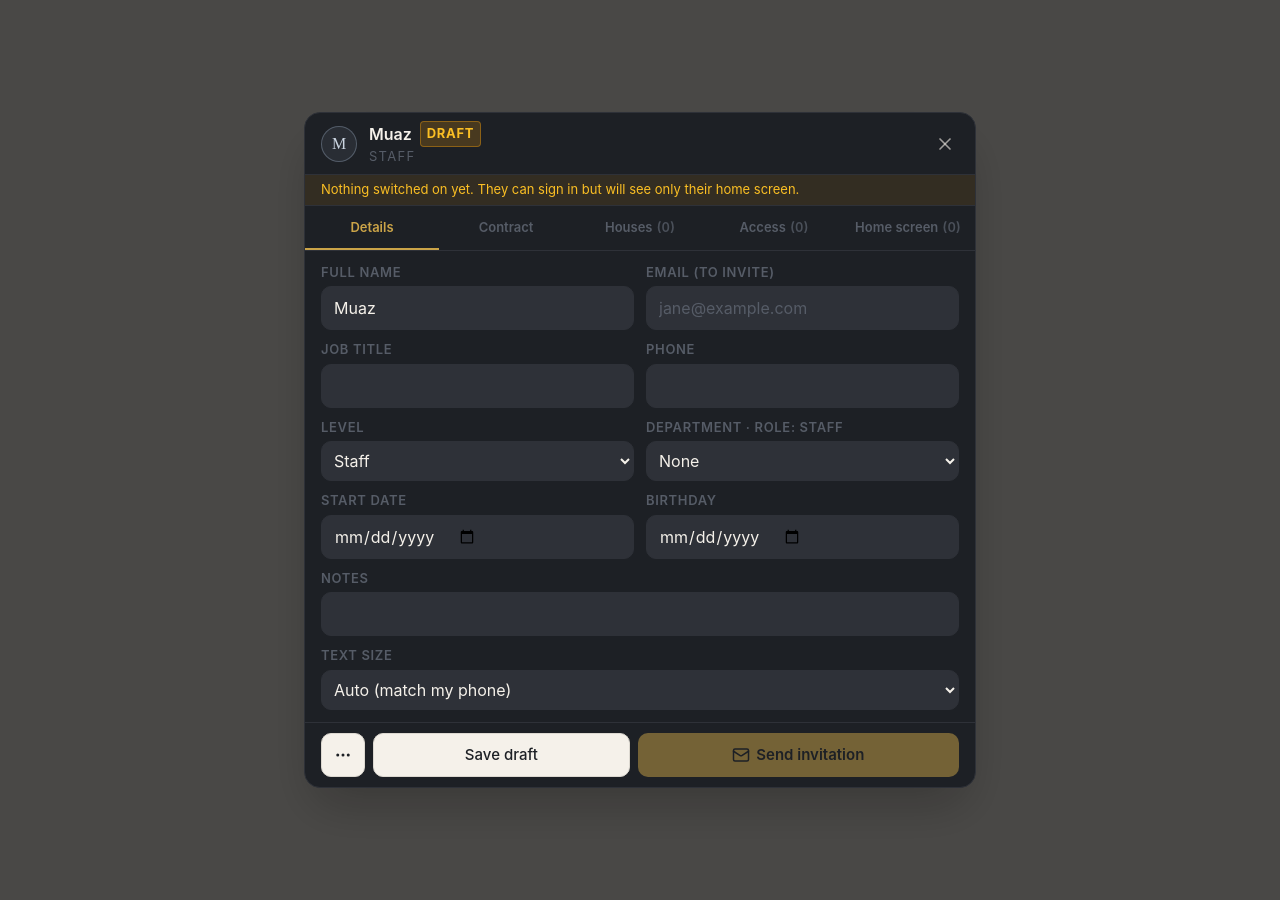
clock row in Schedule › shows for staff and counts in the group
Step 1. Click the tab "Access(0)" → (774, 228), box [707, 206, 841, 250]
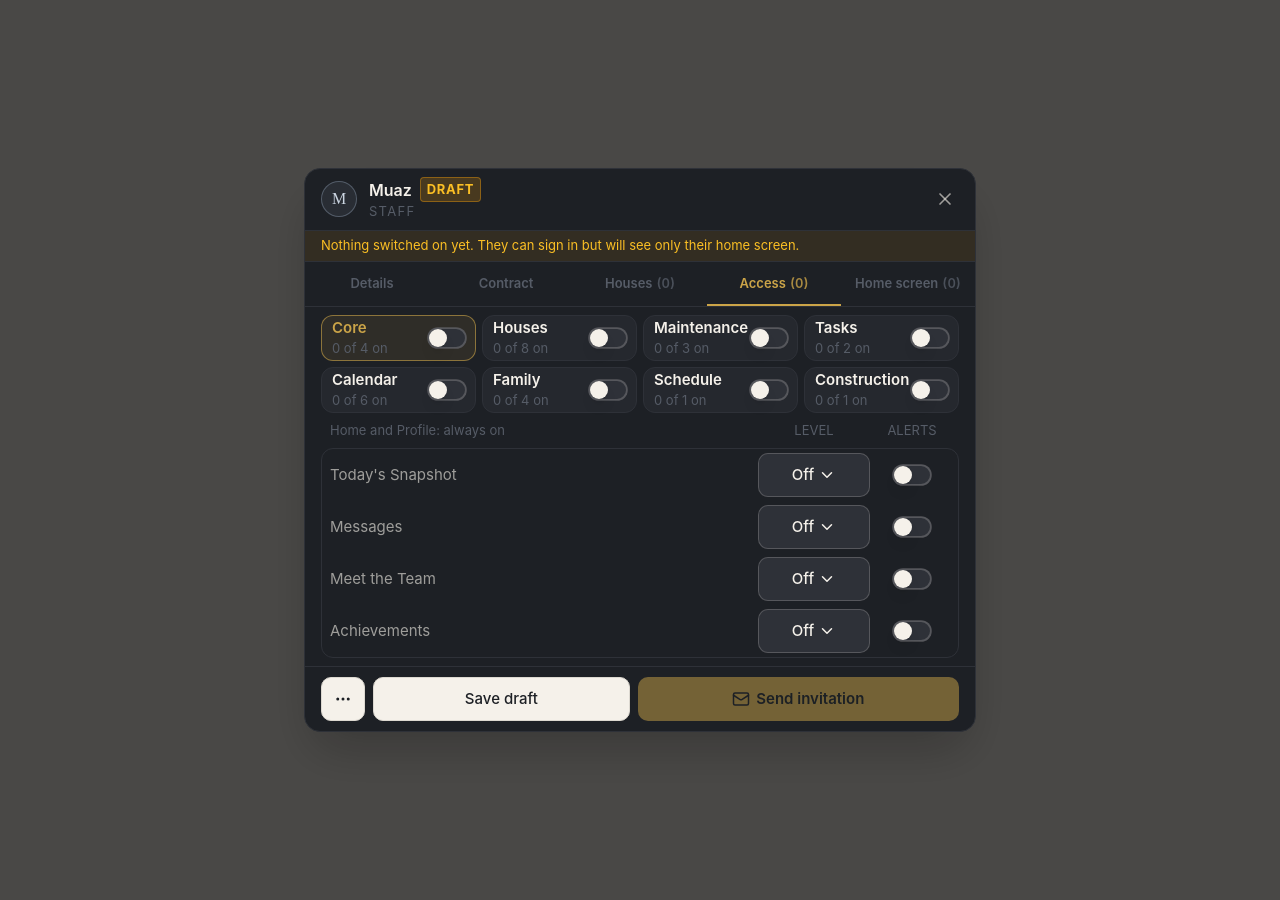
Step 2. Click the button "Schedule 0 of 1 on" → (694, 390), box [644, 368, 743, 412]
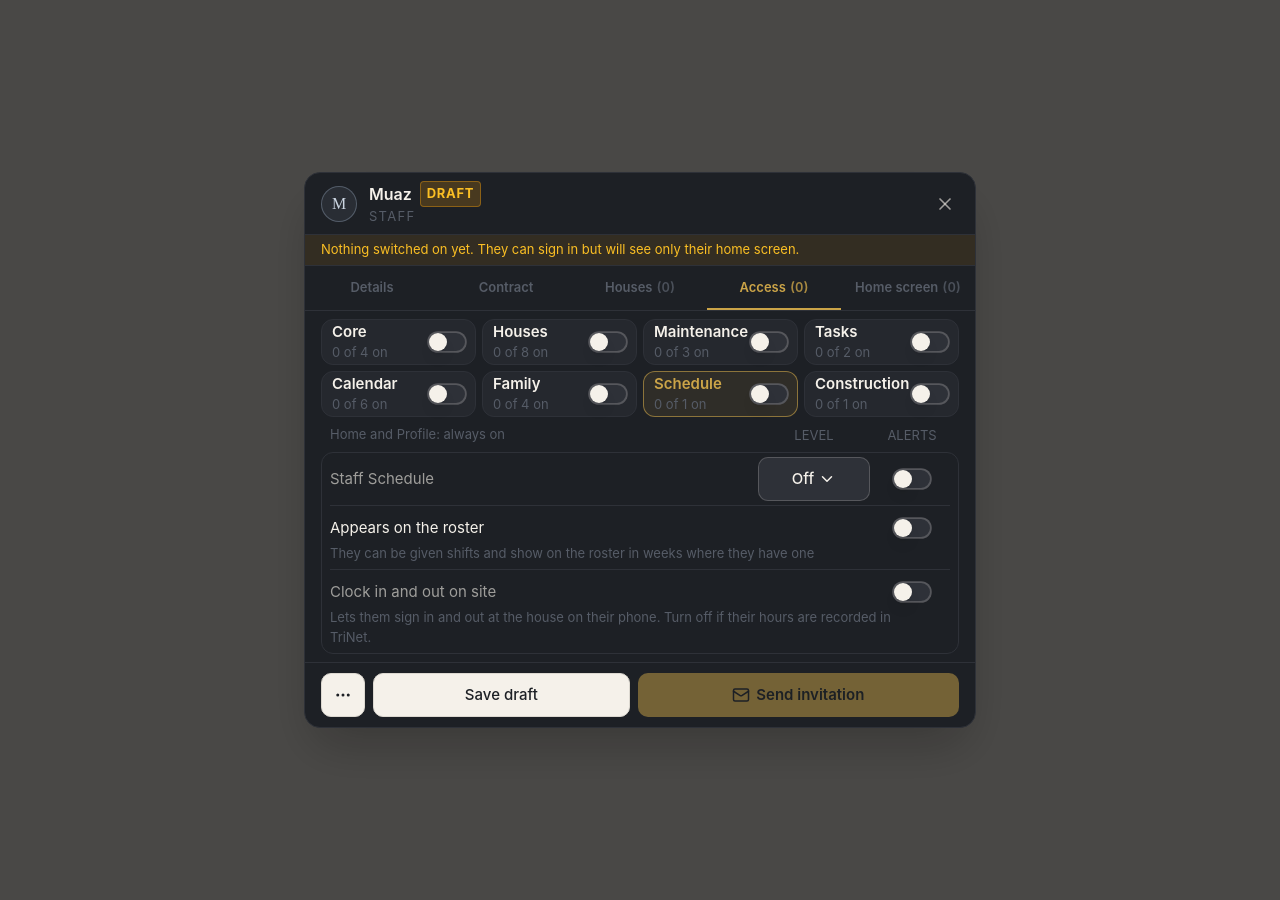
Now the button "Schedule 0 of 1 on" is shown, box [644, 372, 743, 416]
Now the element with test id "clock-row" shows "Clock in and out on site", box [330, 582, 496, 601]
Step 3. Click the switch named "Clock in and out on site" → (912, 592), box [892, 582, 932, 603]
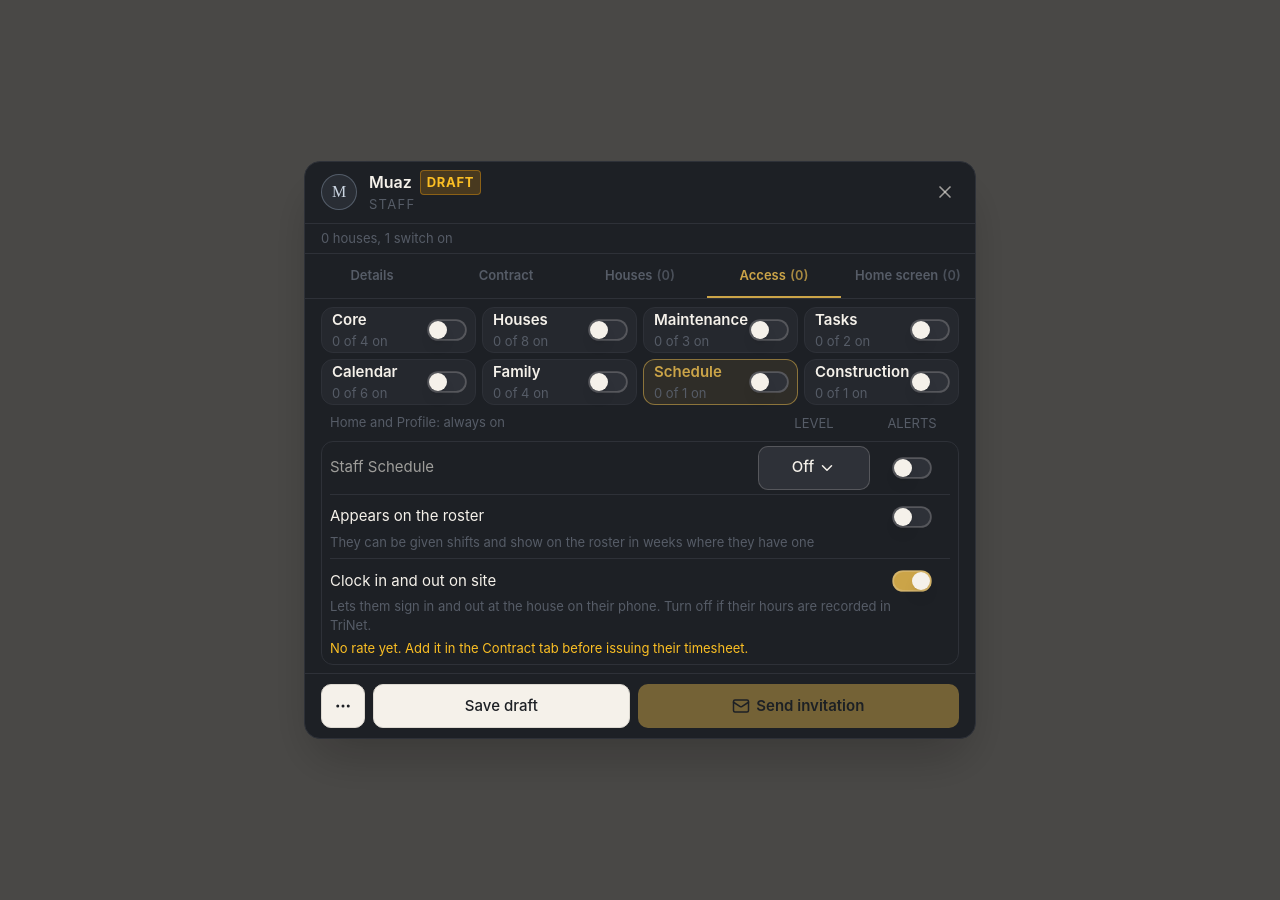
Now the button "Schedule 0 of 1 on" is shown, box [644, 360, 743, 404]
Now the text with test id "member-status" shows "1 switch on", box [321, 230, 453, 246]
Now the text with test id "clock-no-rate" is shown, box [330, 640, 748, 656]
